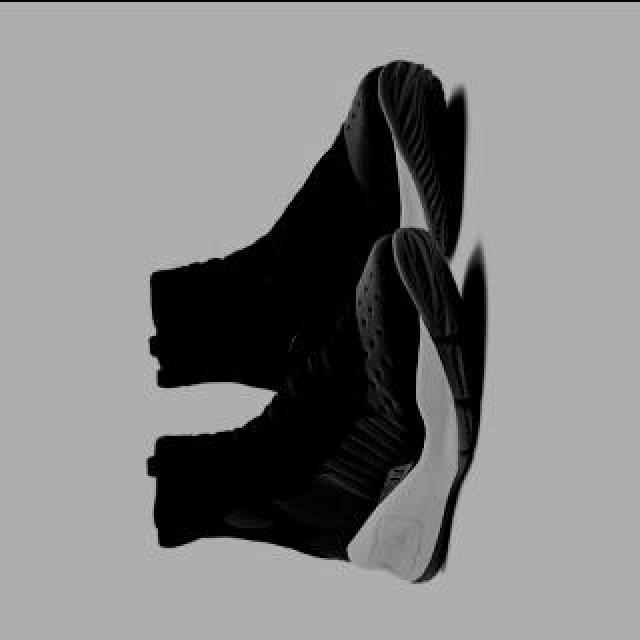shoe: (145, 223, 473, 583), (149, 58, 457, 406)
